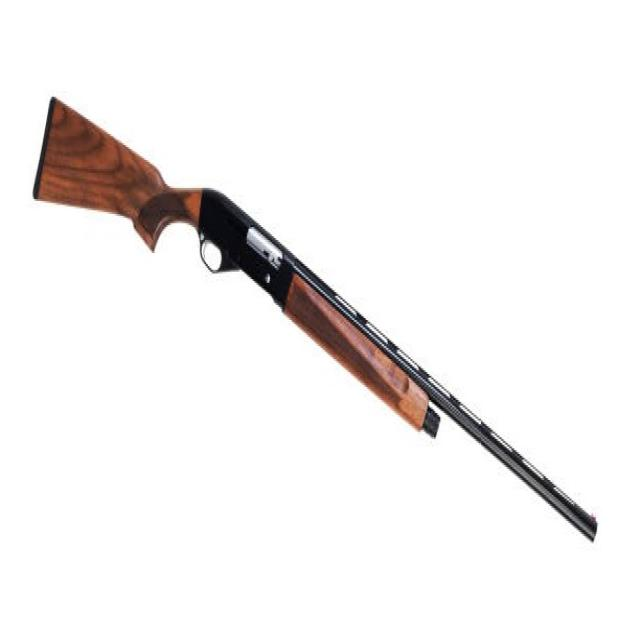rifle: (32, 94, 603, 544)
